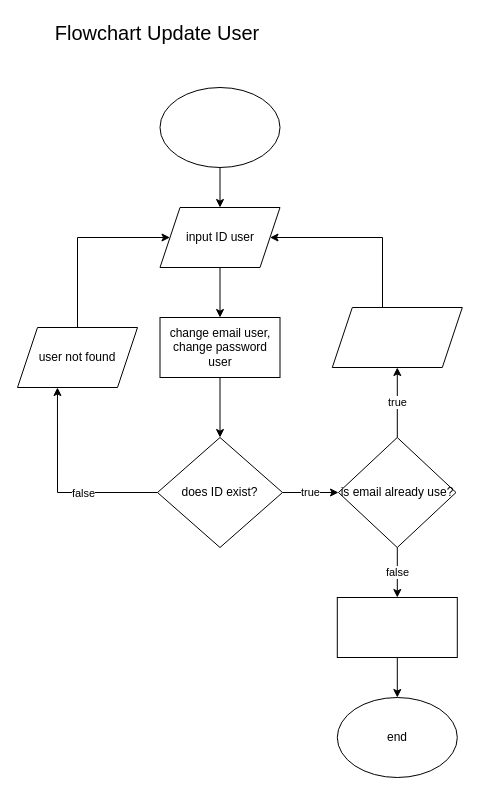
Some shapes in this 480 by 795 pixel diagram are drawn without their labels. The centre of each missing label's shape, as x and y in pixels:
email already used: the point at 396,337
start: the point at 219,127
Update User Successfully: the point at 396,627
